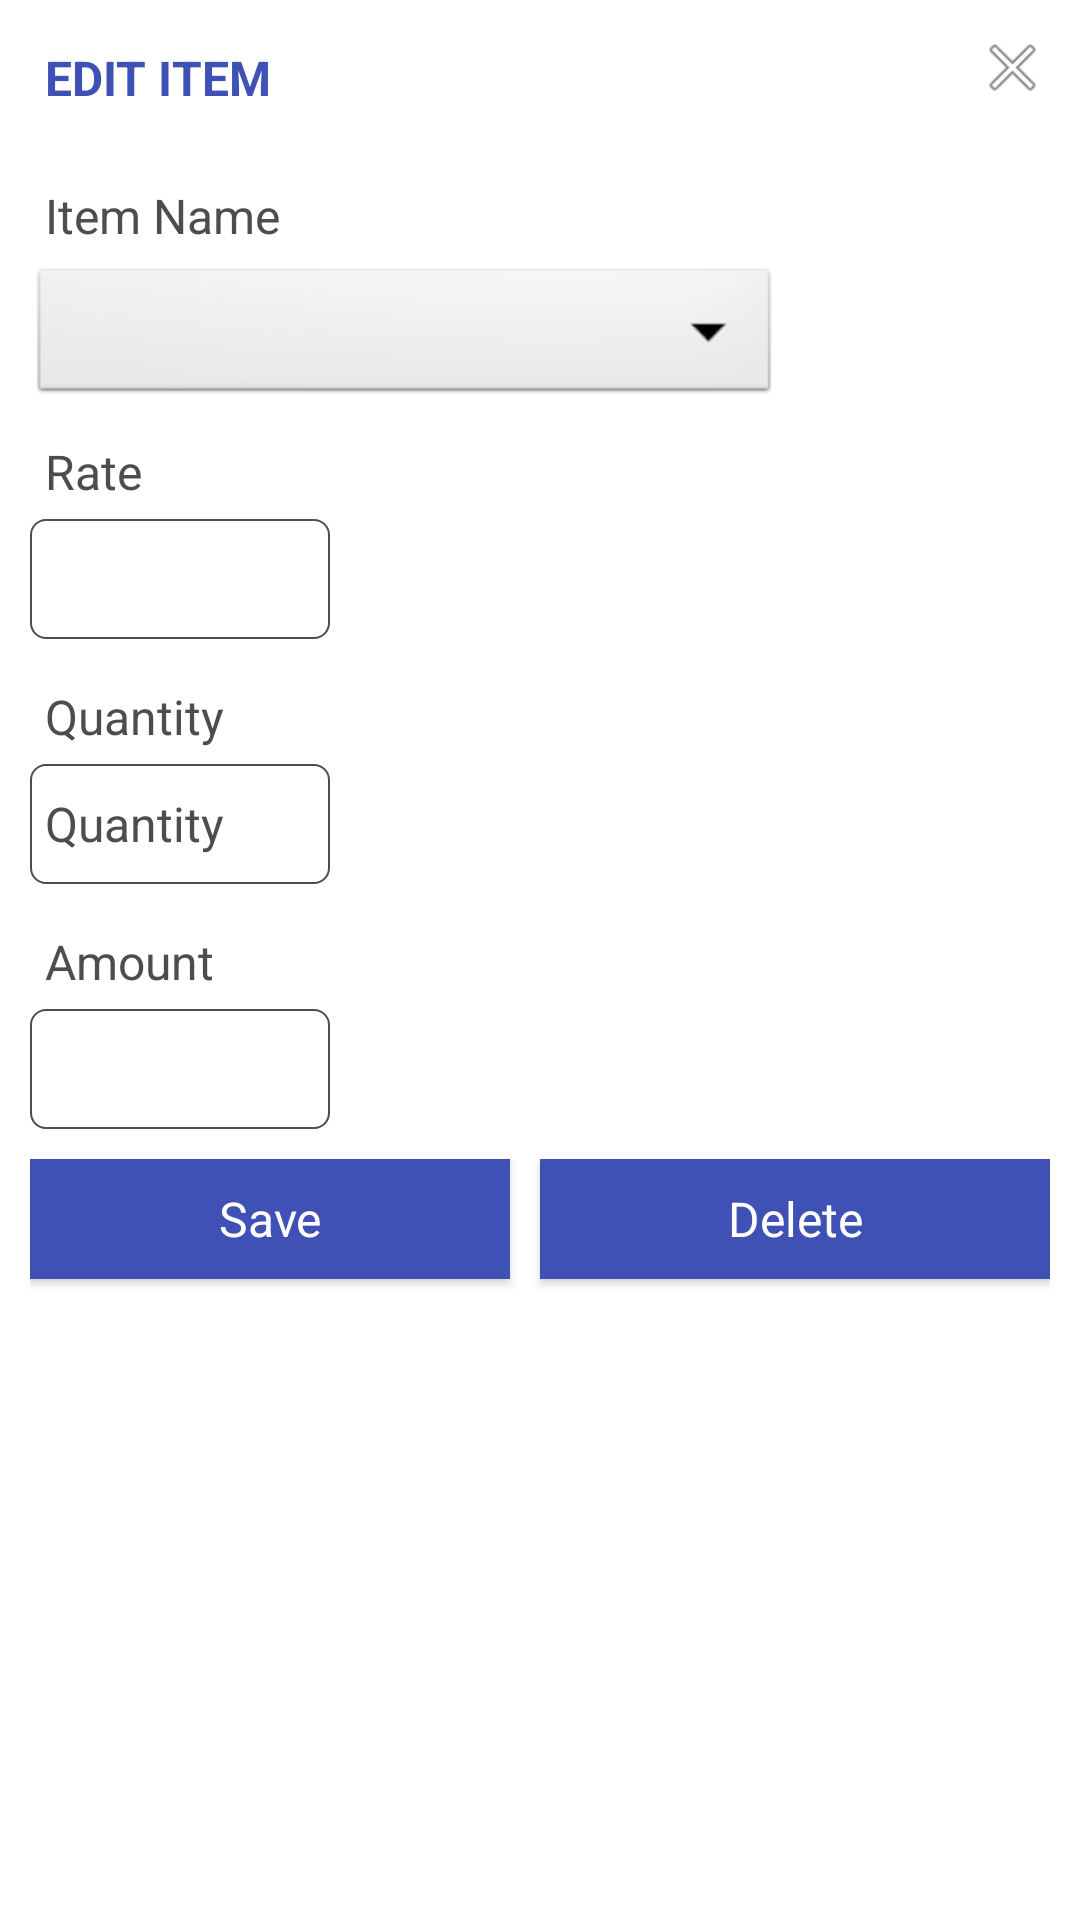

Named icons in this screenshot (1080w x 1920h) and their centers, (x=x, y=y):
close clear cancel: (x=1012, y=67)
